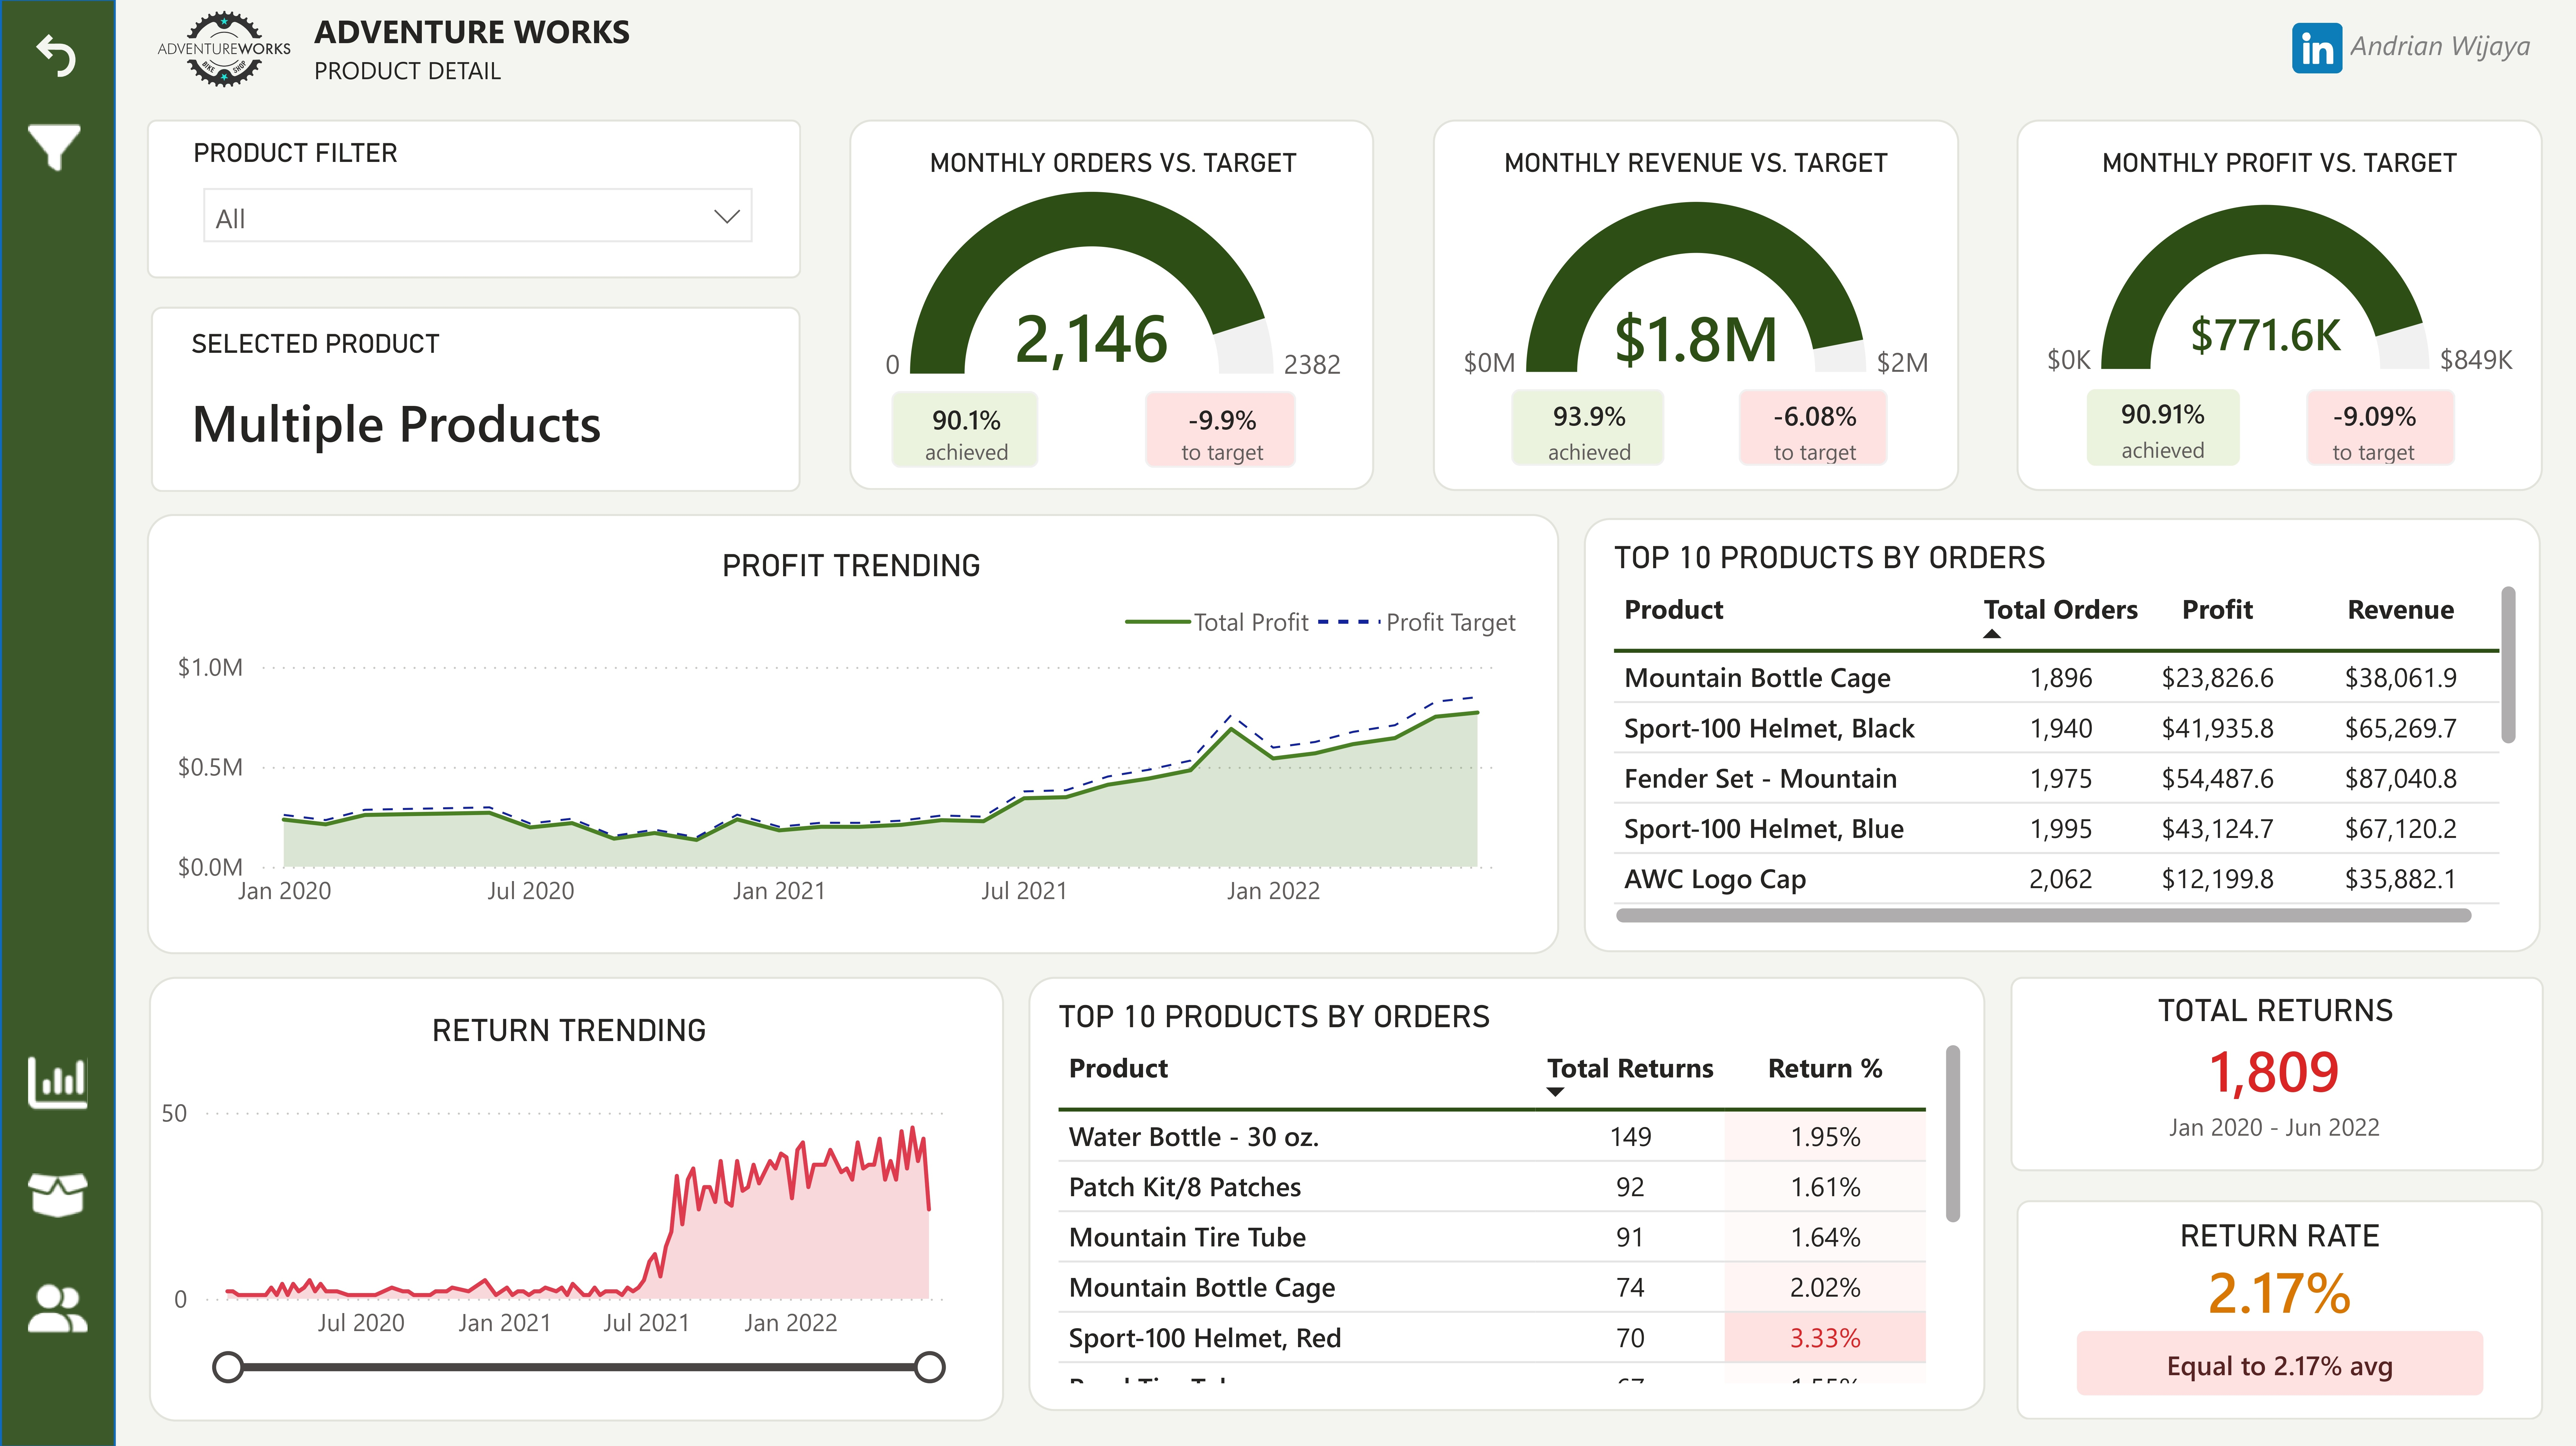

The dashboard page shown, as its layout file describes it:
{"tool":"powerbi","page":{"name":"Product Detail","canvas":[1280,720],"ordinal":1},"visuals":[{"type":"shape","title":"Menu Bar","box":[0,0,57.5,720],"z":0,"group":"g15"},{"type":"image","box":[68.3,4.7,86.1,40.4],"z":0,"group":"g13"},{"type":"textbox","title":"linkdin","box":[1163.3,9.3,109.6,29.6],"z":0,"group":"g6"},{"type":"shape","title":"Shape","box":[72.8,59.6,325.2,79],"z":0,"group":"g12"},{"type":"shape","title":"Shape","box":[421.7,60,260.8,184.2],"z":0,"group":"g2"},{"type":"shape","title":"Shape","box":[711.5,60,261.5,184.6],"z":0,"group":"g3"},{"type":"shape","title":"Shape","box":[1001.5,60,261.5,184.6],"z":0,"group":"g4"},{"type":"shape","title":"Shape","box":[75.1,152.5,322.8,92.1],"z":0,"group":"g14"},{"type":"shape","title":"Shape","box":[72.9,256,701.8,218.8],"z":0,"group":"g8"},{"type":"shape","title":"Shape","box":[787.3,258.2,475.5,215.8],"z":0,"group":"g7"},{"type":"shape","title":"Shape","box":[73.7,486,424.9,221],"z":0,"group":"g10"},{"type":"shape","title":"Shape","box":[511.3,486,475.5,215.8],"z":0,"group":"g9"},{"type":"group","id":"g1","title":"Total Return","box":[998.6,486,265,96.7],"z":0},{"type":"shape","title":"Shape","box":[998.6,486,265,96.7],"z":0,"group":"g1"},{"type":"actionButton","box":[10,519.2,37.5,39.2],"z":0,"group":"g5"},{"type":"shape","title":"Shape","box":[1001.7,596.7,261.7,109.2],"z":0,"group":"g11"},{"type":"textbox","box":[150.8,0,204.5,50.9],"z":1000,"group":"g13"},{"type":"actionButton","box":[13.1,11.5,30,31.5],"z":1000,"group":"g15"},{"type":"image","box":[1138.8,12,25.3,25.3],"z":1000,"group":"g6"},{"type":"group","id":"g2","title":"Order Vs Target","box":[421.7,60,260.8,184.2],"z":1000},{"type":"slicer","title":"PRODUCT FILTER","fields":{"Values":["Product Lookup.ProductName"]},"box":[90.6,68.3,293.1,61.5],"z":1000,"group":"g12"},{"type":"cardVisual","title":"SELECTED PRODUCT","fields":{"Data":["Measure Table.Selected Product"]},"box":[90.6,163.3,285.7,74.3],"z":1000,"group":"g14"},{"type":"cardVisual","title":"to target","fields":{"Data":["Measure Table.Revenue Gap"]},"box":[857.5,187.5,86.7,50.8],"z":1000,"group":"g3"},{"type":"cardVisual","title":"to target","fields":{"Data":["Measure Table.Profit Gap"]},"box":[1139.1,187.5,86.7,50.8],"z":1000,"group":"g4"},{"type":"cardVisual","title":"achieved","fields":{"Data":["Measure Table.% Order Vs Target"]},"box":[436.7,188.6,85.6,50],"z":1000,"group":"g2"},{"type":"pivotTable","title":"TOP 10 PRODUCTS BY ORDERS","fields":{"Rows":["Product Lookup.ProductName"],"Values":["Measure Table.Total Orders","Measure Table.Total Profit","Measure Table.Total Revenue"]},"box":[797.6,268.7,458.6,196.6],"z":1000,"group":"g7"},{"type":"areaChart","title":"PROFIT TRENDING","fields":{"Y":["Measure Table.Total Profit","Measure Table.Profit Target"],"Category":["Calendar Lookup.Date Hierarchy (Start).Year","Calendar Lookup.Date Hierarchy (Start).Start of Month","Calendar Lookup.Date Hierarchy (Start).Start of Week","Calendar Lookup.Date Hierarchy (Start).Date"]},"box":[83.1,271.9,680.2,188.8],"z":1000,"group":"g8"},{"type":"cardVisual","title":"TOTAL RETURNS","fields":{"Data":["Measure Table.Total Returns"]},"box":[1005,492.5,251.7,82.5],"z":1000,"group":"g1"},{"type":"pivotTable","title":"TOP 10 PRODUCTS BY ORDERS","fields":{"Rows":["Product Lookup.ProductName"],"Values":["Measure Table.Total Returns","Measure Table.Return Rate"]},"box":[521.6,496.5,458.6,196.6],"z":1000,"group":"g9"},{"type":"areaChart","title":"RETURN TRENDING","fields":{"Y":["Measure Table.Total Returns"],"Category":["Calendar Lookup.Date Hierarchy (Start).Year","Calendar Lookup.Date Hierarchy (Start).Start of Month","Calendar Lookup.Date Hierarchy (Start).Start of Week","Calendar Lookup.Date Hierarchy (Start).Date"]},"box":[74.5,502.7,415.6,188.5],"z":1000,"group":"g10"},{"type":"actionButton","box":[10,575,37.5,39.2],"z":1000,"group":"g5"},{"type":"cardVisual","title":"RETURN RATE","fields":{"Data":["Measure Table.Return Rate"]},"box":[1017.5,605,230,96.7],"z":1000,"group":"g11"},{"type":"actionButton","box":[10,56.7,35.8,34.2],"z":2000,"group":"g15"},{"type":"group","id":"g3","title":"Revenue Vs Target","box":[711.5,60,261.5,184.6],"z":2000},{"type":"cardVisual","title":"achieved","fields":{"Data":["Measure Table.% Profit vs Target"]},"box":[1030.2,187.5,88.3,50],"z":2000,"group":"g4"},{"type":"cardVisual","title":"achieved","fields":{"Data":["Measure Table.% Revenue vs Target"]},"box":[744.1,188.3,88.3,50],"z":2000,"group":"g3"},{"type":"cardVisual","title":"to target","fields":{"Data":["Measure Table.% Order vs Target (to Target)"]},"box":[562.3,188.6,87.2,50],"z":2000,"group":"g2"},{"type":"actionButton","box":[10,630.9,37.5,39.2],"z":2000,"group":"g5"},{"type":"group","id":"g4","title":"Profit Vs Target","box":[1001.5,60,261.5,184.6],"z":3000},{"type":"gauge","title":"MONTHLY REVENUE VS. TARGET","fields":{"Y":["Measure Table.Total Revenue"],"MaxValue":["Measure Table.Revenue Target"]},"box":[716.6,74.2,251.7,128.3],"z":3000,"group":"g3"},{"type":"gauge","title":"MONTHLY PROFIT VS. TARGET","fields":{"Y":["Measure Table.Total Profit"],"MaxValue":["Measure Table.Profit Target"]},"box":[1006.6,74.2,251.7,128.3],"z":3000,"group":"g4"},{"type":"gauge","title":"MONTHLY ORDERS VS. TARGET","fields":{"MaxValue":["Measure Table.Order Target"],"Y":["Measure Table.Total Orders"]},"box":[429.3,74.4,246.6,124.2],"z":3000,"group":"g2"},{"type":"group","id":"g5","title":"Button","box":[10,519.2,37.5,150.8],"z":3000,"group":"g15"},{"type":"group","id":"g6","title":"Linkedin","box":[1138.8,9.3,134.7,30.2],"z":4000},{"type":"group","id":"g7","title":"Top 10 Product Profit","box":[787.3,258.2,475.5,215.8],"z":4500},{"type":"group","id":"g8","title":"Profit Trending","box":[72.9,256,701.8,218.8],"z":5000},{"type":"group","id":"g9","title":"Top 10 Product Return","box":[511.3,486,475.5,215.8],"z":6000},{"type":"group","id":"g10","title":"Return Trending","box":[73.7,486,424.9,221],"z":7000},{"type":"group","id":"g11","title":"Return Rate","box":[1001.7,596.7,261.7,109.2],"z":8000},{"type":"group","id":"g12","title":"Product Filter","box":[72.8,59.6,325.2,79],"z":9000},{"type":"group","id":"g13","title":"Logo","box":[68.3,0,286.7,50.8],"z":10000},{"type":"group","id":"g14","title":"Selected Product","box":[75.1,152.5,322.8,92.1],"z":11000},{"type":"group","id":"g15","title":"Menu Bar","box":[0,0,57.5,720],"z":12000}]}

Visuals, with their boxes on the page's 1280x720 design canvas (x1, y1, x2, y2). These are canvas units, not pixel positions in the 2576x1446 screenshot, which may show the page scaled, cropped or inside an application window:
"Menu Bar" shape: (x1=0, y1=0, x2=58, y2=720)
image: (x1=68, y1=5, x2=154, y2=45)
"linkdin" textbox: (x1=1163, y1=9, x2=1273, y2=39)
"Shape" shape: (x1=73, y1=60, x2=398, y2=139)
"Shape" shape: (x1=422, y1=60, x2=682, y2=244)
"Shape" shape: (x1=712, y1=60, x2=973, y2=245)
"Shape" shape: (x1=1002, y1=60, x2=1263, y2=245)
"Shape" shape: (x1=75, y1=152, x2=398, y2=245)
"Shape" shape: (x1=73, y1=256, x2=775, y2=475)
"Shape" shape: (x1=787, y1=258, x2=1263, y2=474)
"Shape" shape: (x1=74, y1=486, x2=499, y2=707)
"Shape" shape: (x1=511, y1=486, x2=987, y2=702)
"Total Return" group: (x1=999, y1=486, x2=1264, y2=583)
"Shape" shape: (x1=999, y1=486, x2=1264, y2=583)
actionButton: (x1=10, y1=519, x2=48, y2=558)
"Shape" shape: (x1=1002, y1=597, x2=1263, y2=706)
textbox: (x1=151, y1=0, x2=355, y2=51)
actionButton: (x1=13, y1=12, x2=43, y2=43)
image: (x1=1139, y1=12, x2=1164, y2=37)
"Order Vs Target" group: (x1=422, y1=60, x2=682, y2=244)
"PRODUCT FILTER" slicer: (x1=91, y1=68, x2=384, y2=130)
"SELECTED PRODUCT" cardVisual: (x1=91, y1=163, x2=376, y2=238)
"to target" cardVisual: (x1=858, y1=188, x2=944, y2=238)
"to target" cardVisual: (x1=1139, y1=188, x2=1226, y2=238)
"achieved" cardVisual: (x1=437, y1=189, x2=522, y2=239)
"TOP 10 PRODUCTS BY ORDERS" pivotTable: (x1=798, y1=269, x2=1256, y2=465)
"PROFIT TRENDING" areaChart: (x1=83, y1=272, x2=763, y2=461)
"TOTAL RETURNS" cardVisual: (x1=1005, y1=492, x2=1257, y2=575)
"TOP 10 PRODUCTS BY ORDERS" pivotTable: (x1=522, y1=496, x2=980, y2=693)
"RETURN TRENDING" areaChart: (x1=74, y1=503, x2=490, y2=691)
actionButton: (x1=10, y1=575, x2=48, y2=614)
"RETURN RATE" cardVisual: (x1=1018, y1=605, x2=1248, y2=702)
actionButton: (x1=10, y1=57, x2=46, y2=91)
"Revenue Vs Target" group: (x1=712, y1=60, x2=973, y2=245)
"achieved" cardVisual: (x1=1030, y1=188, x2=1118, y2=238)
"achieved" cardVisual: (x1=744, y1=188, x2=832, y2=238)
"to target" cardVisual: (x1=562, y1=189, x2=650, y2=239)
actionButton: (x1=10, y1=631, x2=48, y2=670)
"Profit Vs Target" group: (x1=1002, y1=60, x2=1263, y2=245)
"MONTHLY REVENUE VS. TARGET" gauge: (x1=717, y1=74, x2=968, y2=202)
"MONTHLY PROFIT VS. TARGET" gauge: (x1=1007, y1=74, x2=1258, y2=202)
"MONTHLY ORDERS VS. TARGET" gauge: (x1=429, y1=74, x2=676, y2=199)
"Button" group: (x1=10, y1=519, x2=48, y2=670)
"Linkedin" group: (x1=1139, y1=9, x2=1274, y2=40)
"Top 10 Product Profit" group: (x1=787, y1=258, x2=1263, y2=474)
"Profit Trending" group: (x1=73, y1=256, x2=775, y2=475)
"Top 10 Product Return" group: (x1=511, y1=486, x2=987, y2=702)
"Return Trending" group: (x1=74, y1=486, x2=499, y2=707)
"Return Rate" group: (x1=1002, y1=597, x2=1263, y2=706)
"Product Filter" group: (x1=73, y1=60, x2=398, y2=139)
"Logo" group: (x1=68, y1=0, x2=355, y2=51)
"Selected Product" group: (x1=75, y1=152, x2=398, y2=245)
"Menu Bar" group: (x1=0, y1=0, x2=58, y2=720)
